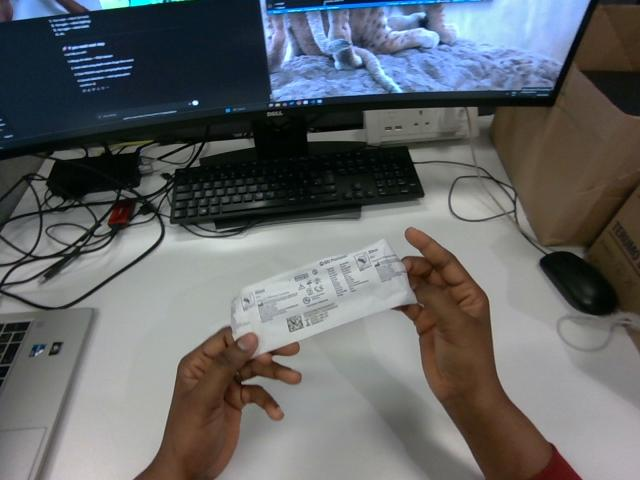syringe: (231, 239, 415, 355)
